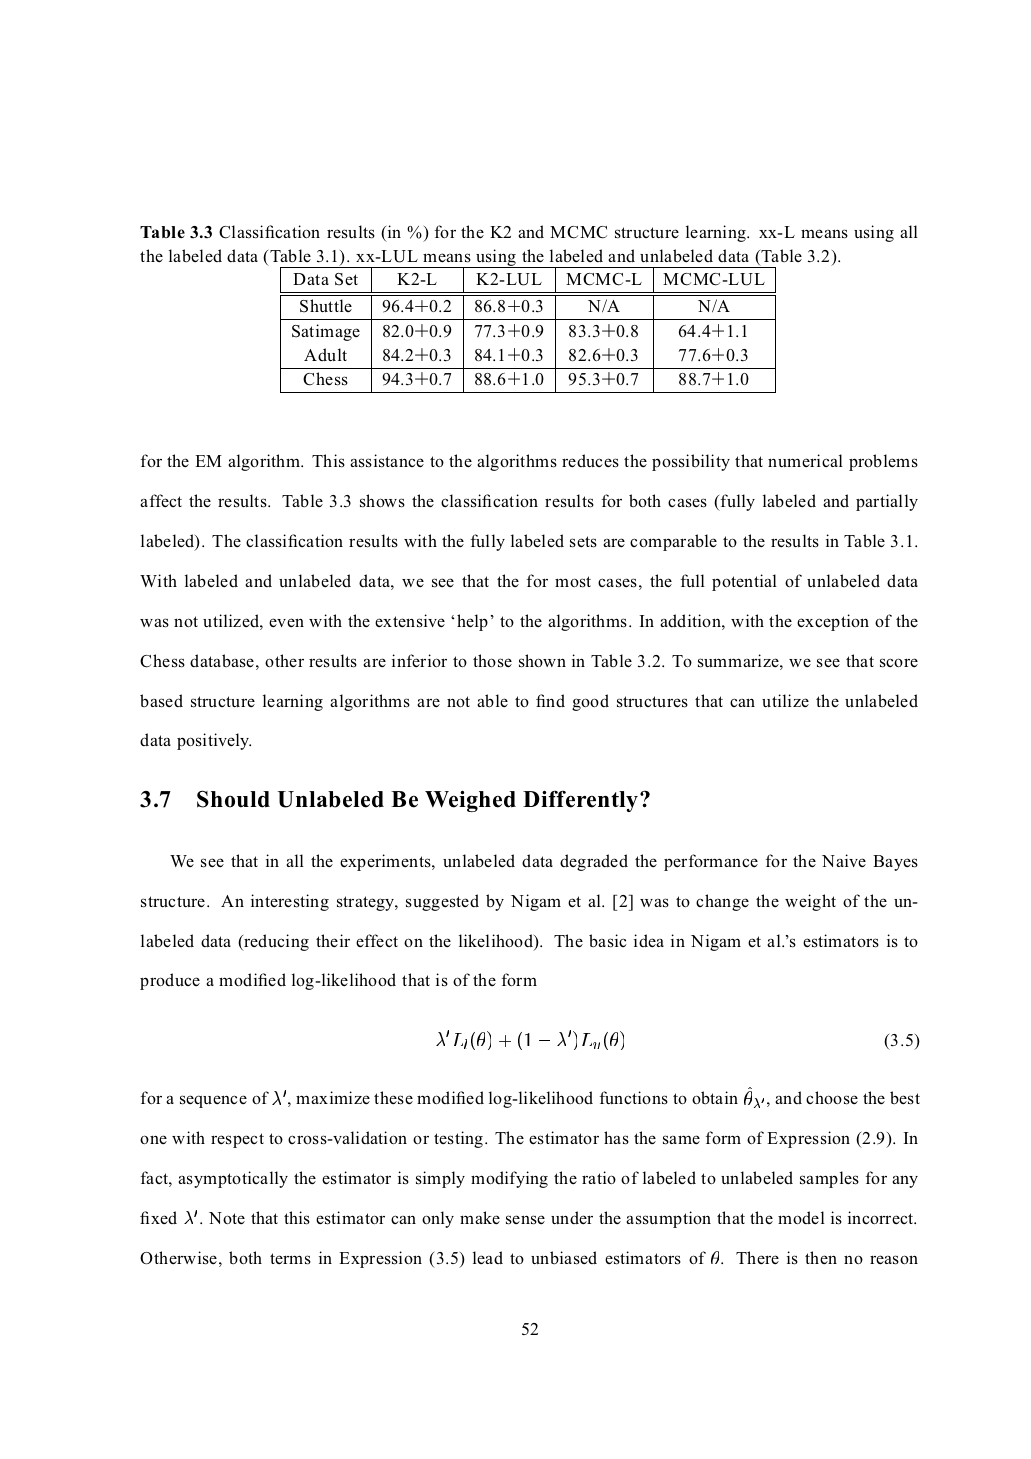Table: (280, 267, 775, 392)
formula: (436, 1030, 919, 1050)
